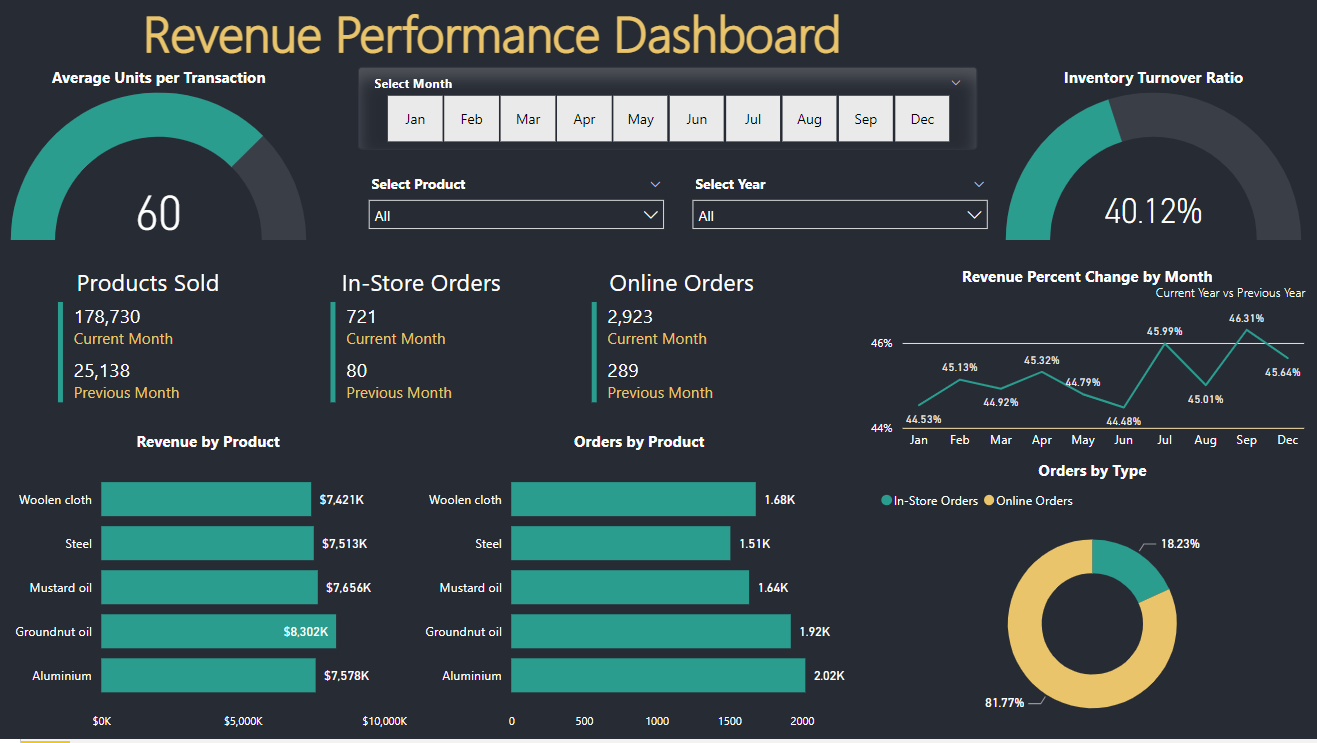

Layout of this report page (visuals, bound fields, positions):
{"tool":"powerbi","page":{"name":"Page 1","canvas":[1280,720],"ordinal":0},"visuals":[{"type":"donutChart","title":"Orders by Type","fields":{"Y":["Sum(Orders Comparison Various produ.Orders)"],"Category":["Orders Comparison Various produ.Column"]},"box":[851.5,449.8,418.5,270.2],"z":0},{"type":"clusteredBarChart","fields":{"Category":["Product wise Revenue.Product"],"Y":["Sum(Product wise Revenue.Revenue)"]},"box":[9.6,422.1,395.6,297.9],"z":1000},{"type":"gauge","title":"Inventory Turnover Ratio","fields":{"Y":["Sum(Inventory Turnover Ratio.Column 2)"]},"box":[969.6,71.2,300.3,172.5],"z":2000},{"type":"lineChart","title":"Revenue Percent Change by Month","fields":{"Category":["Sales Distribution.Month"],"Y":["Avg(Sales Distribution.Count.Sales Ratio)"]},"box":[841.8,262.9,428.1,186.9],"z":3000},{"type":"clusteredBarChart","title":"Orders by Product","fields":{"Category":["Orders Comparison Various produ.ProductName"],"Y":["Sum(Orders Comparison Various produ.Orders)"]},"box":[405.2,422.1,436.6,297.9],"z":4000},{"type":"slicer","fields":{"Values":["Orders Comparison Various produ.ProductName"]},"box":[352.5,170,305,66.2],"z":5000},{"type":"gauge","fields":{"Y":["Sum(Average Units Per Transaction.Average Units per Transaction)"]},"box":[9.6,71.2,300.3,172.5],"z":6000},{"type":"multiRowCard","title":"Products Sold","fields":{"Values":["Sum(Products Sold.Sum Of Current Month Products)","Sum(Products Sold.Sum Of Previous Month Products)"]},"box":[57.9,262.9,183.3,137.5],"z":7000},{"type":"textbox","box":[139.9,0,810.5,80.8],"z":8000},{"type":"slicer","fields":{"Values":["Sales Distribution copy.Year"]},"box":[665,170,305,66.2],"z":9000},{"type":"slicer","title":"Select  Month","fields":{"Values":["Sales Distribution.Month"]},"box":[352.5,71.2,597.5,80],"z":10000},{"type":"multiRowCard","title":"In-Store Orders","fields":{"Values":["Sum(Store Orders.Count Of Current Month Store Sales)","Sum(Store Orders.Count Of Previous Month Store Sales)"]},"box":[320.8,262.9,184.5,137.5],"z":11000},{"type":"multiRowCard","title":"Online Orders","fields":{"Values":["Sum(Online Orders.Count Of Current Month Online Sales)","Sum(Online Orders.Count Of Previous Month Online Sales)"]},"box":[572.9,262.9,183.3,137.5],"z":12000},{"type":"textbox","box":[1116.2,273.8,163.8,32.5],"z":14000}]}

Visuals, with their boxes in screenshot pixels (x1, y1, x2, y2), scaled from the page's 1280x720 canvas onto the 1317x743 screenshot:
"Orders by Type" donutChart: bbox(876, 464, 1307, 742)
clusteredBarChart - Product wise Revenue.Product x Sum(Product wise Revenue.Revenue): bbox(10, 436, 417, 742)
"Inventory Turnover Ratio" gauge: bbox(998, 73, 1307, 251)
"Revenue Percent Change by Month" lineChart: bbox(866, 271, 1307, 464)
"Orders by Product" clusteredBarChart: bbox(417, 436, 866, 742)
slicer - Orders Comparison Various produ.ProductName: bbox(363, 175, 677, 244)
gauge - Sum(Average Units Per Transaction.Average Units per Transaction): bbox(10, 73, 319, 251)
"Products Sold" multiRowCard: bbox(60, 271, 248, 413)
textbox: bbox(144, 0, 978, 83)
slicer - Sales Distribution copy.Year: bbox(684, 175, 998, 244)
"Select  Month" slicer: bbox(363, 73, 977, 156)
"In-Store Orders" multiRowCard: bbox(330, 271, 520, 413)
"Online Orders" multiRowCard: bbox(589, 271, 778, 413)
textbox: bbox(1148, 283, 1316, 316)
